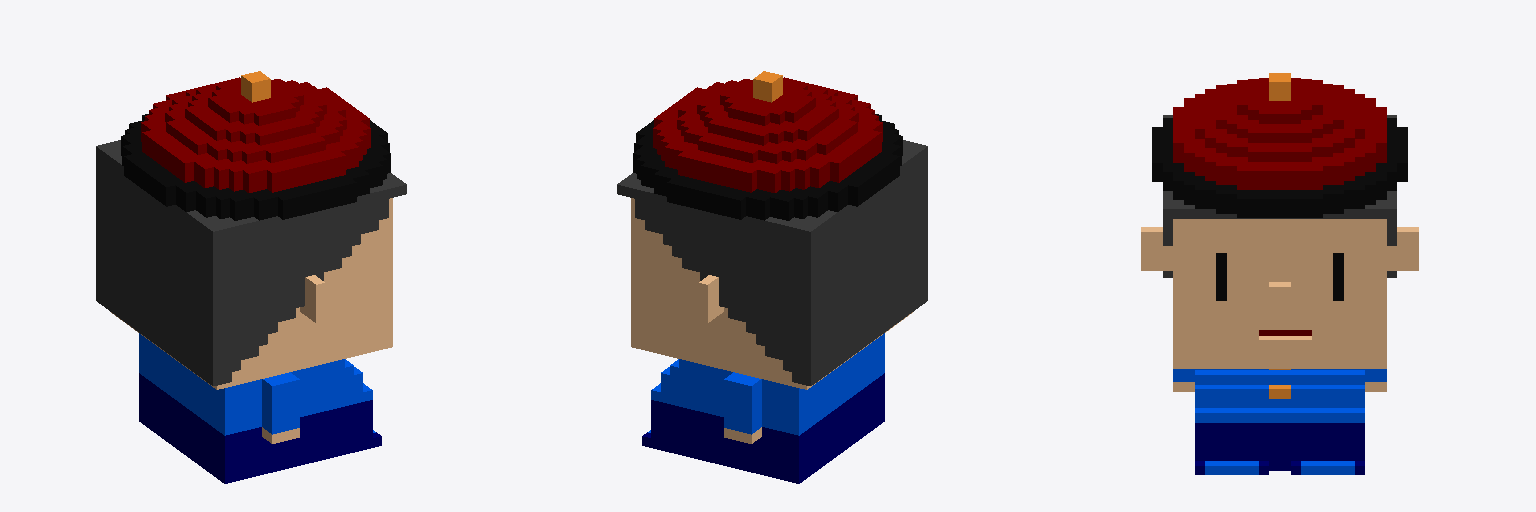
3 views of the same model, side by side, from view 1: azimuth 30°, elevation 25°; view 2: azimuth 150°, elevation 25°; view 3: azimuth 270°, elevation 25° (orthographic).
Parts seen in each view (by area): view 1: object 1; view 2: object 1; view 3: object 1.
Boxes of the visible parts, box(x1,y1,x2,y2) form: object 1: box(96, 71, 406, 483); object 1: box(617, 71, 927, 483); object 1: box(1141, 73, 1418, 474).
Bounding box in the file's own units: 2.4 × 3.7 × 2.6.
1 materials, 1 textured.